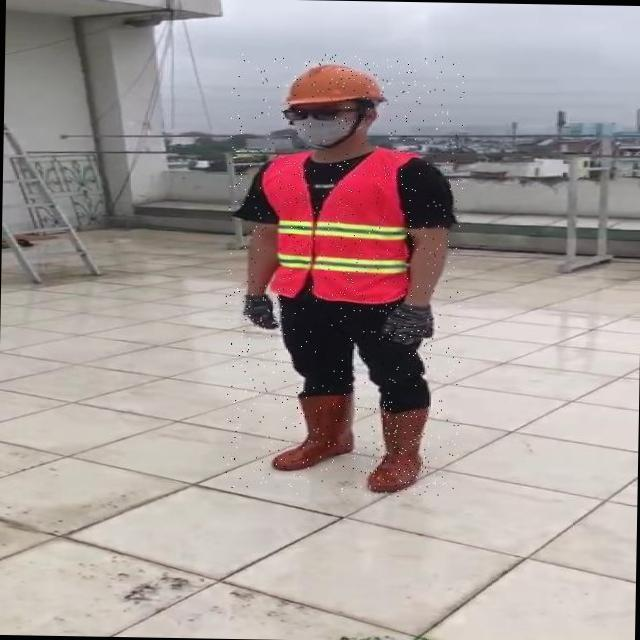boots: (268, 388, 360, 472), (369, 400, 429, 497)
gloves: (382, 299, 434, 346), (235, 292, 278, 330)
vest: (256, 148, 417, 306)
